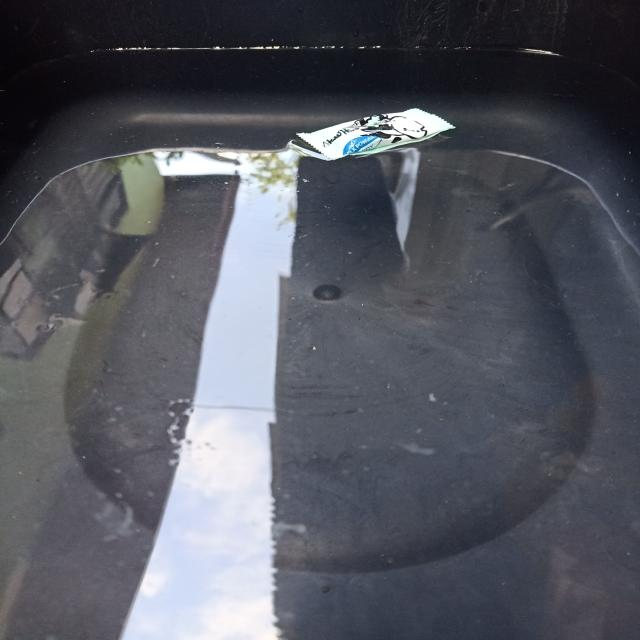Plastic Wrapper: (270, 107, 455, 162), (216, 149, 271, 166)
